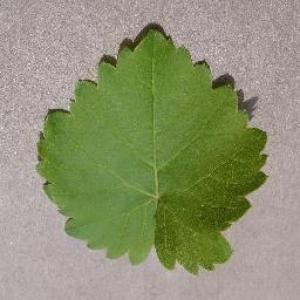Folha: (34, 21, 270, 275)
